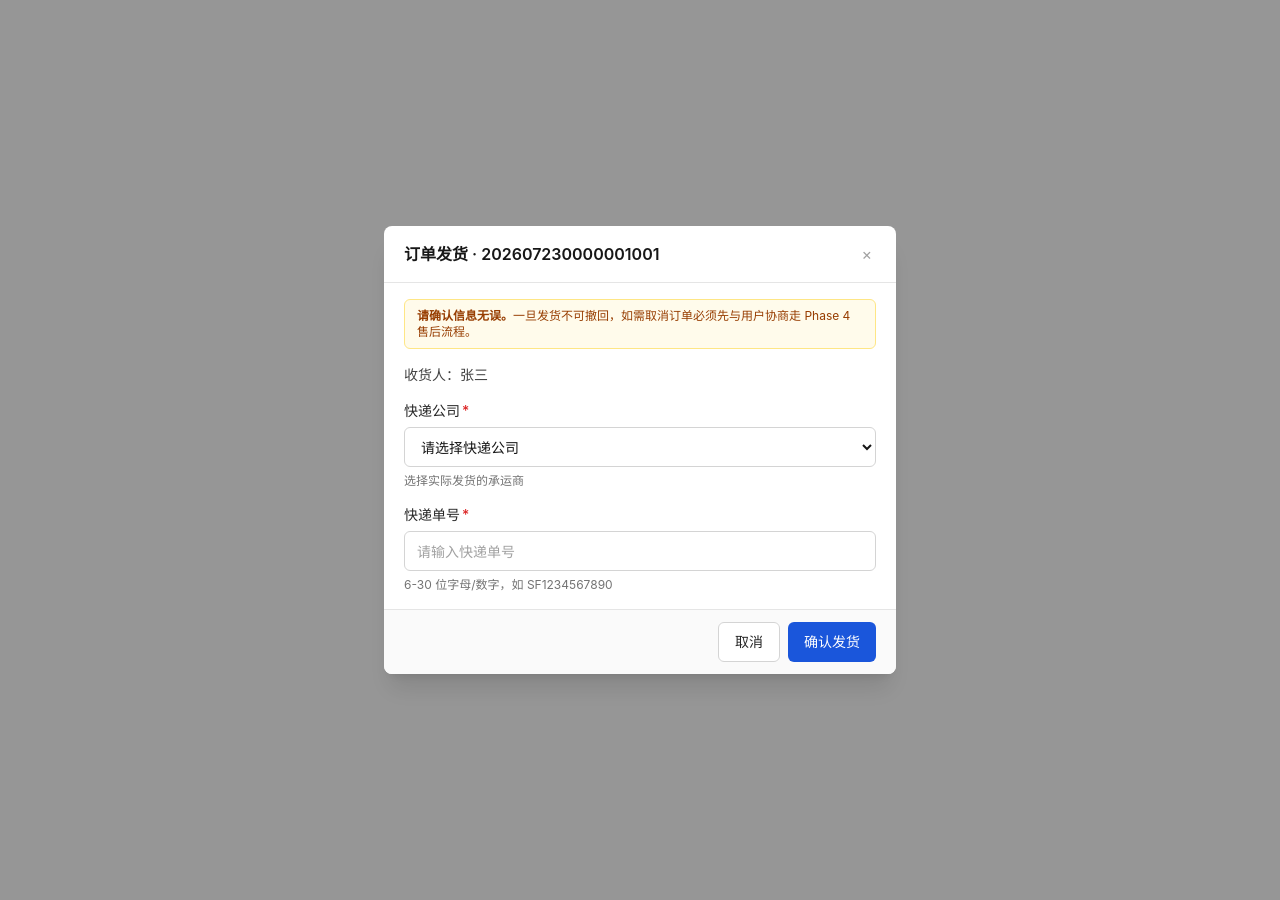
Test: ShipOrderModal › tracking_no 为空时报错
Select "顺丰速运" in the dropdown labelled "快递公司*": x=640, y=447 [404,427,876,467]
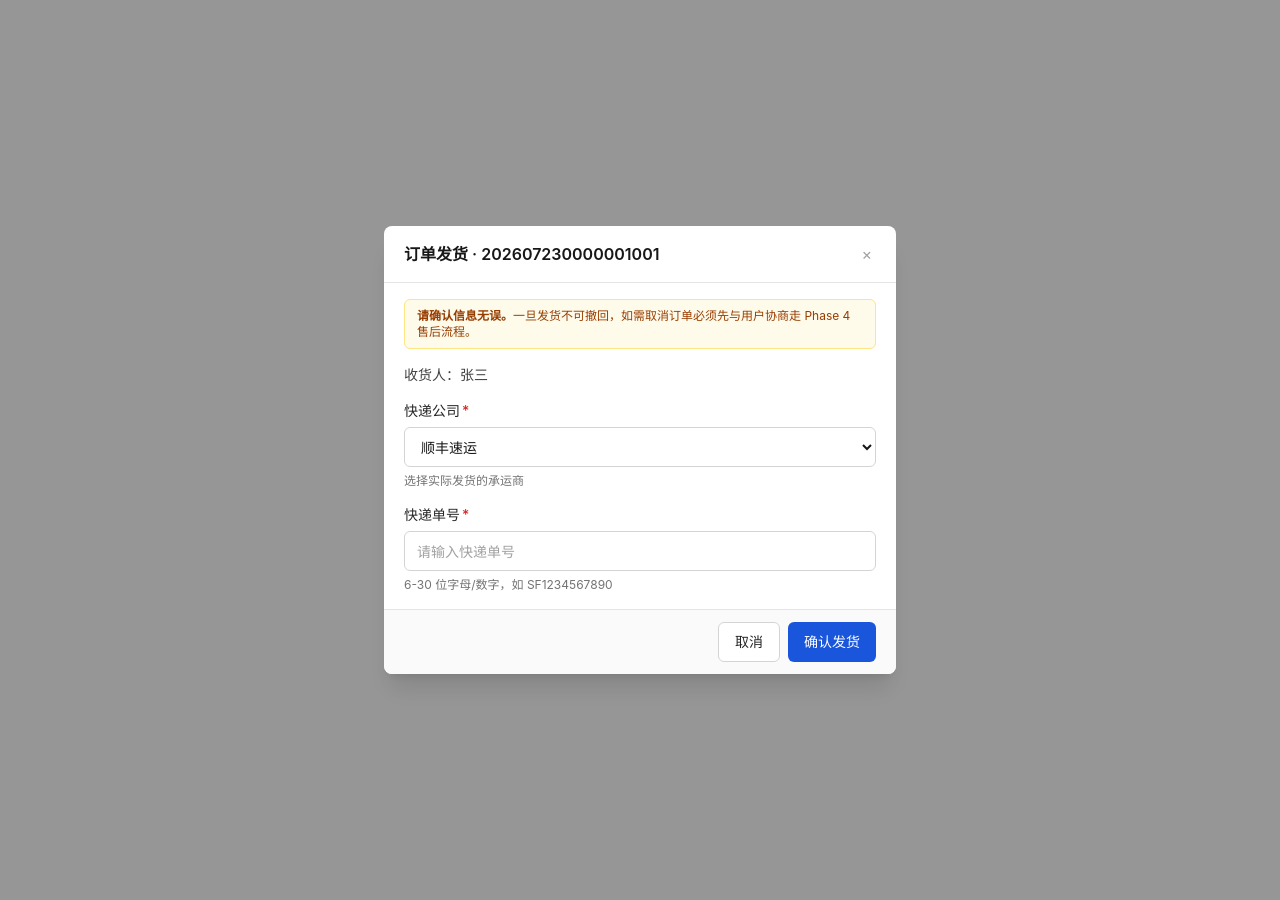
Click the button "确认发货": x=832, y=642 [788,622,876,662]
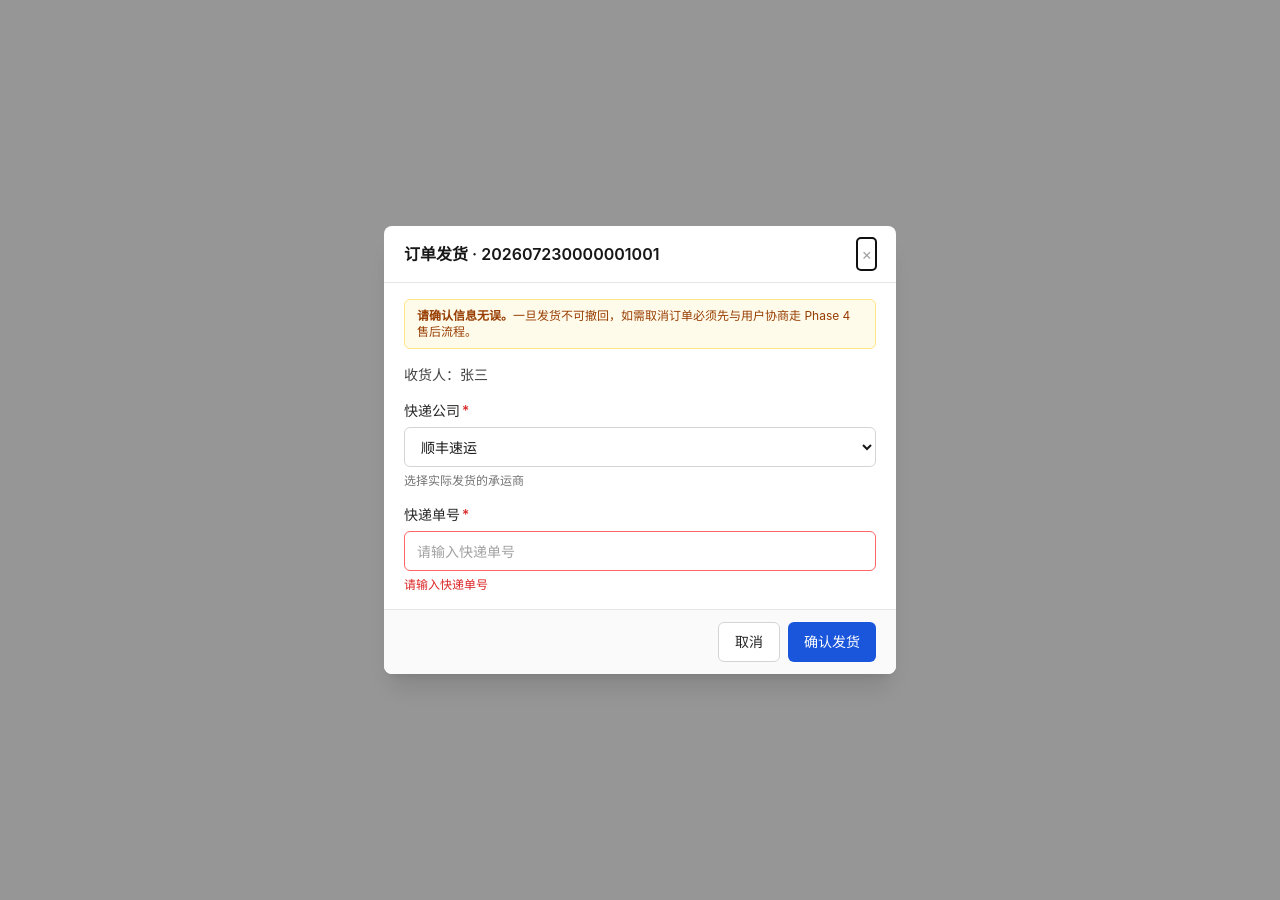
Result: the text "请输入快递单号" is shown at [404,577,488,592]
